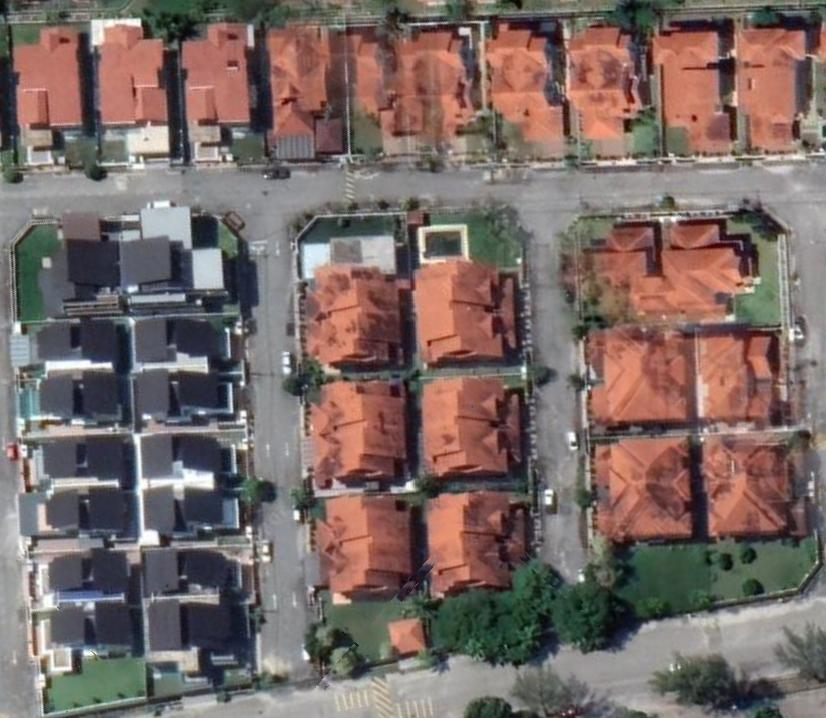building: (570, 214, 771, 323), (84, 13, 178, 163), (483, 14, 571, 169), (648, 21, 742, 163), (118, 200, 237, 309), (177, 15, 258, 169), (562, 19, 655, 149), (6, 17, 89, 152), (29, 205, 124, 319), (734, 21, 811, 158), (420, 526, 531, 606), (9, 367, 135, 434), (297, 541, 418, 610), (9, 482, 139, 546), (294, 254, 415, 322), (584, 479, 704, 547), (417, 413, 531, 484), (412, 303, 526, 371), (699, 481, 814, 545), (6, 314, 130, 373), (294, 311, 412, 371), (302, 375, 409, 440), (304, 426, 411, 491), (133, 370, 250, 428), (135, 542, 251, 600), (308, 489, 418, 550), (579, 373, 698, 429), (39, 597, 148, 658), (144, 597, 251, 659), (28, 429, 138, 489), (411, 256, 524, 314), (141, 481, 251, 540), (27, 543, 136, 602), (136, 427, 244, 486), (131, 313, 242, 370), (578, 325, 698, 377), (416, 373, 529, 428), (586, 432, 695, 488), (698, 426, 812, 479), (421, 488, 534, 536), (698, 324, 790, 378), (698, 376, 794, 424)
